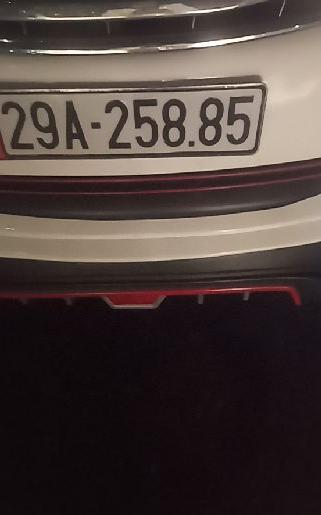Plate-iWeP: (0, 84, 259, 154)
